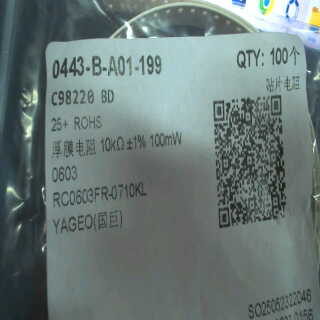10kR: (99, 132, 125, 152)
